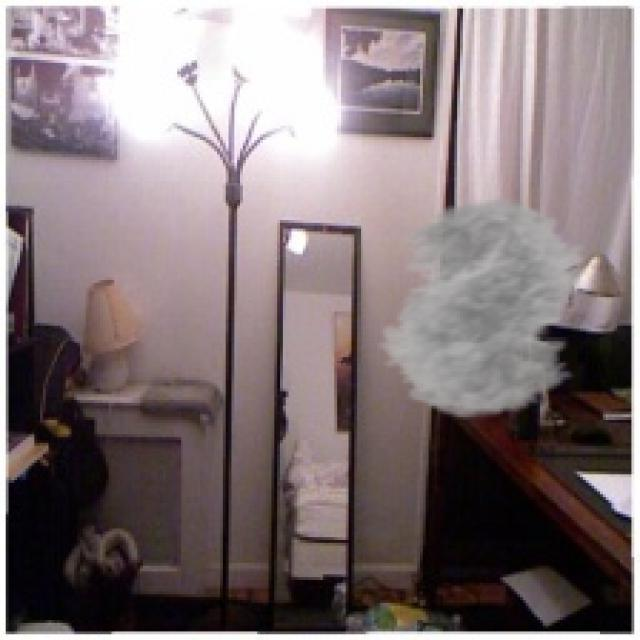smoke: (360, 197, 614, 420)
